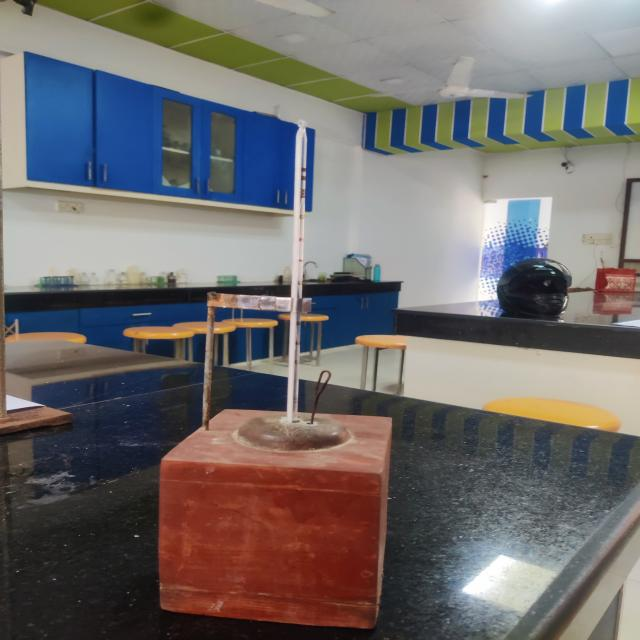Calorimeter: (141, 104, 401, 629)
